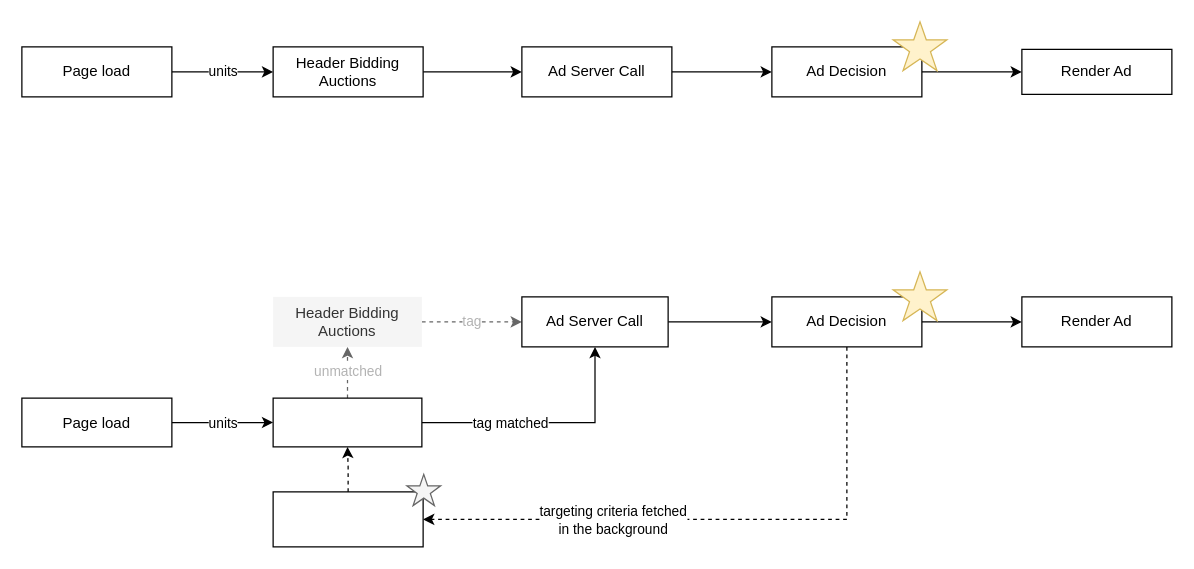
The diagram is 1194 pixels wide and 569 high, and some of its shapes have lost their labels. The shapes that lost their labels are listed below. From the top down, each one's centre as x and y in pixels, then its label:
At (x=347, y=422): "Prematch".
At (x=347, y=519): "Line Item Targeting".
